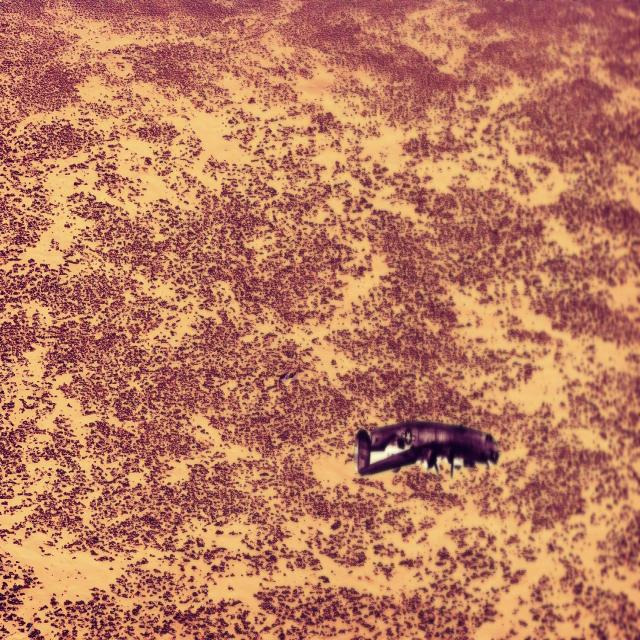airplane: (354, 420, 499, 478)
